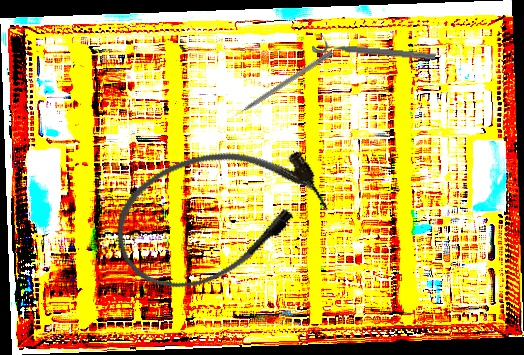Cannula: (97, 119, 339, 309)
Fixation Ring: (311, 32, 437, 64)
Pusher: (226, 48, 334, 123)
